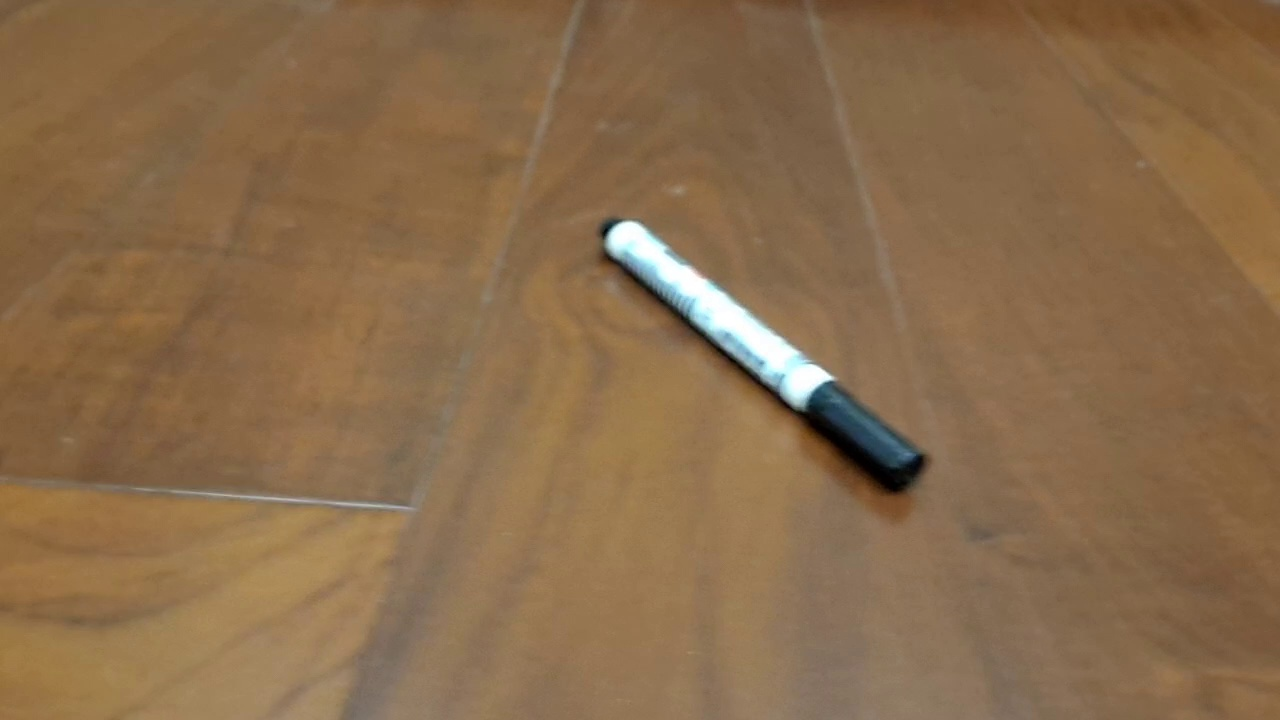pen: (598, 217, 932, 496)
